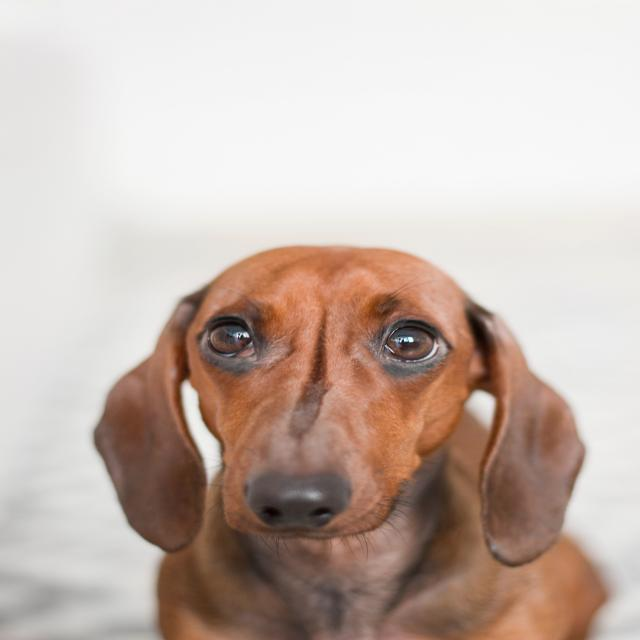dogs: (88, 241, 614, 640)
